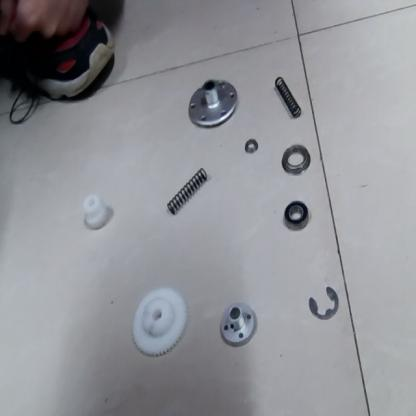FOD: (130, 288, 188, 358), (186, 76, 242, 136), (166, 164, 209, 214), (218, 296, 258, 346), (274, 71, 304, 120), (78, 193, 112, 233), (306, 284, 341, 322), (278, 143, 314, 179), (281, 198, 312, 230), (239, 137, 262, 154)
